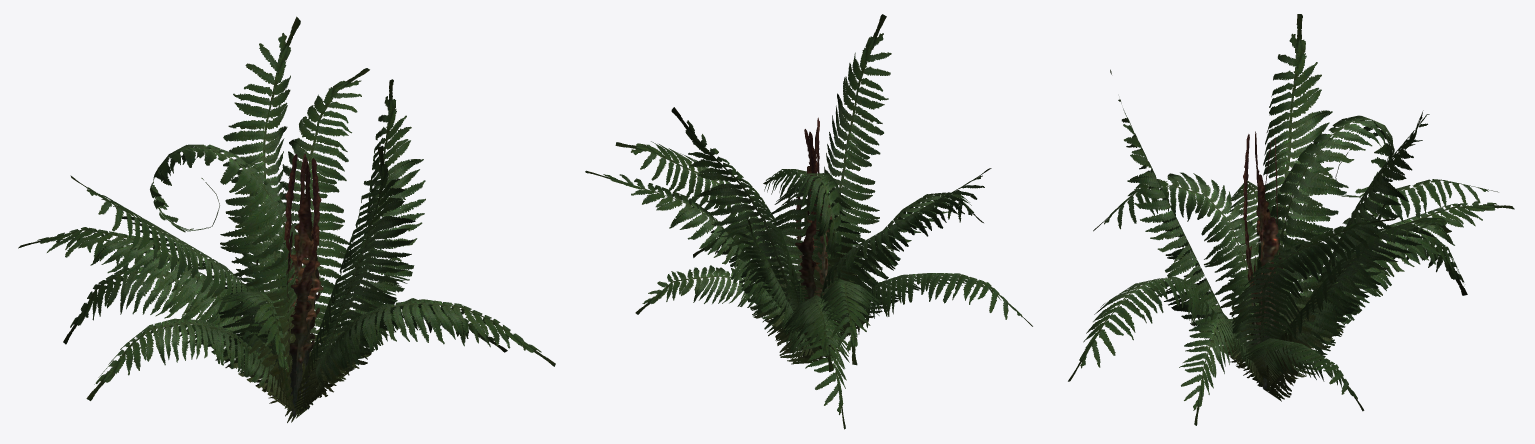
File: shrub_cinnamon_fern01.DAE
The picture shows the model from 3 angles, left to right: view 1: azimuth 30°, elevation 25°; view 2: azimuth 150°, elevation 25°; view 3: azimuth 270°, elevation 25°; orthographic projection. The views are drawn at different scales.
Parts seen in each view (by area): view 1: shrub_cinnamonfern01_CinnamonFernFrond001, shrub_cinnamonfern01_CinnamonFernFlower001, shrub_cinnamonfern01_CinnamonFernFlower; view 2: shrub_cinnamonfern01_CinnamonFernFrond001, shrub_cinnamonfern01_CinnamonFernFlower001, shrub_cinnamonfern01_CinnamonFernFlower; view 3: shrub_cinnamonfern01_CinnamonFernFrond001, shrub_cinnamonfern01_CinnamonFernFlower001, shrub_cinnamonfern01_CinnamonFernFlower.
Boxes of the visible parts, box(x1,y1,x2,y2) form: shrub_cinnamonfern01_CinnamonFernFrond001: box(18, 16, 555, 422); shrub_cinnamonfern01_CinnamonFernFlower001: box(286, 154, 323, 416); shrub_cinnamonfern01_CinnamonFernFlower: box(284, 154, 320, 412); shrub_cinnamonfern01_CinnamonFernFrond001: box(585, 14, 1032, 429); shrub_cinnamonfern01_CinnamonFernFlower001: box(795, 121, 831, 306); shrub_cinnamonfern01_CinnamonFernFlower: box(796, 117, 833, 357); shrub_cinnamonfern01_CinnamonFernFrond001: box(1068, 14, 1514, 425); shrub_cinnamonfern01_CinnamonFernFlower001: box(1253, 131, 1279, 389); shrub_cinnamonfern01_CinnamonFernFlower: box(1243, 134, 1282, 382).
Size of the model in its own units: 1.58 by 1.24 by 1.58.
